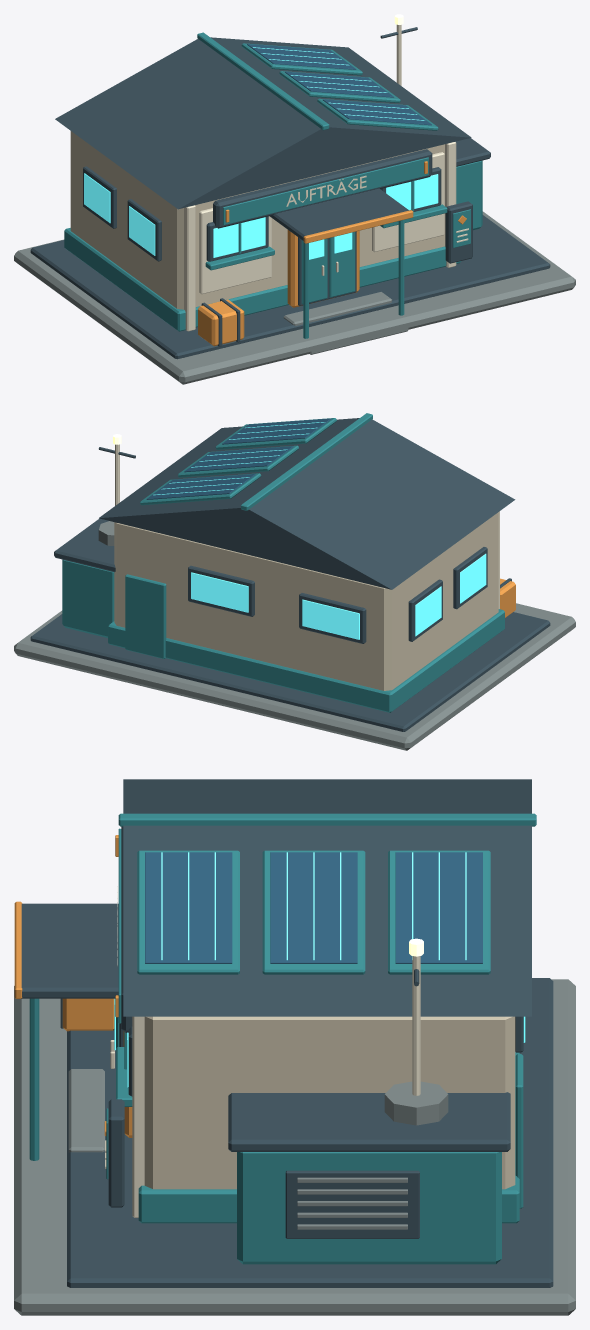
File: questhouse.glb
The picture shows the model from 3 angles, top to bottom: view 1: azimuth 30°, elevation 25°; view 2: azimuth 150°, elevation 25°; view 3: azimuth 270°, elevation 25°; orthographic projection. The views are drawn at different scales.
Parts seen in each view (by area): view 1: Questhouse; view 2: Questhouse; view 3: Questhouse.
Part boxes in pixels (x1,y1,x2,y2): Questhouse: (14,14,575,384); Questhouse: (14,413,575,750); Questhouse: (14,779,575,1315).
Bounding box in the file's own units: 10 × 4.8 × 7.4.
